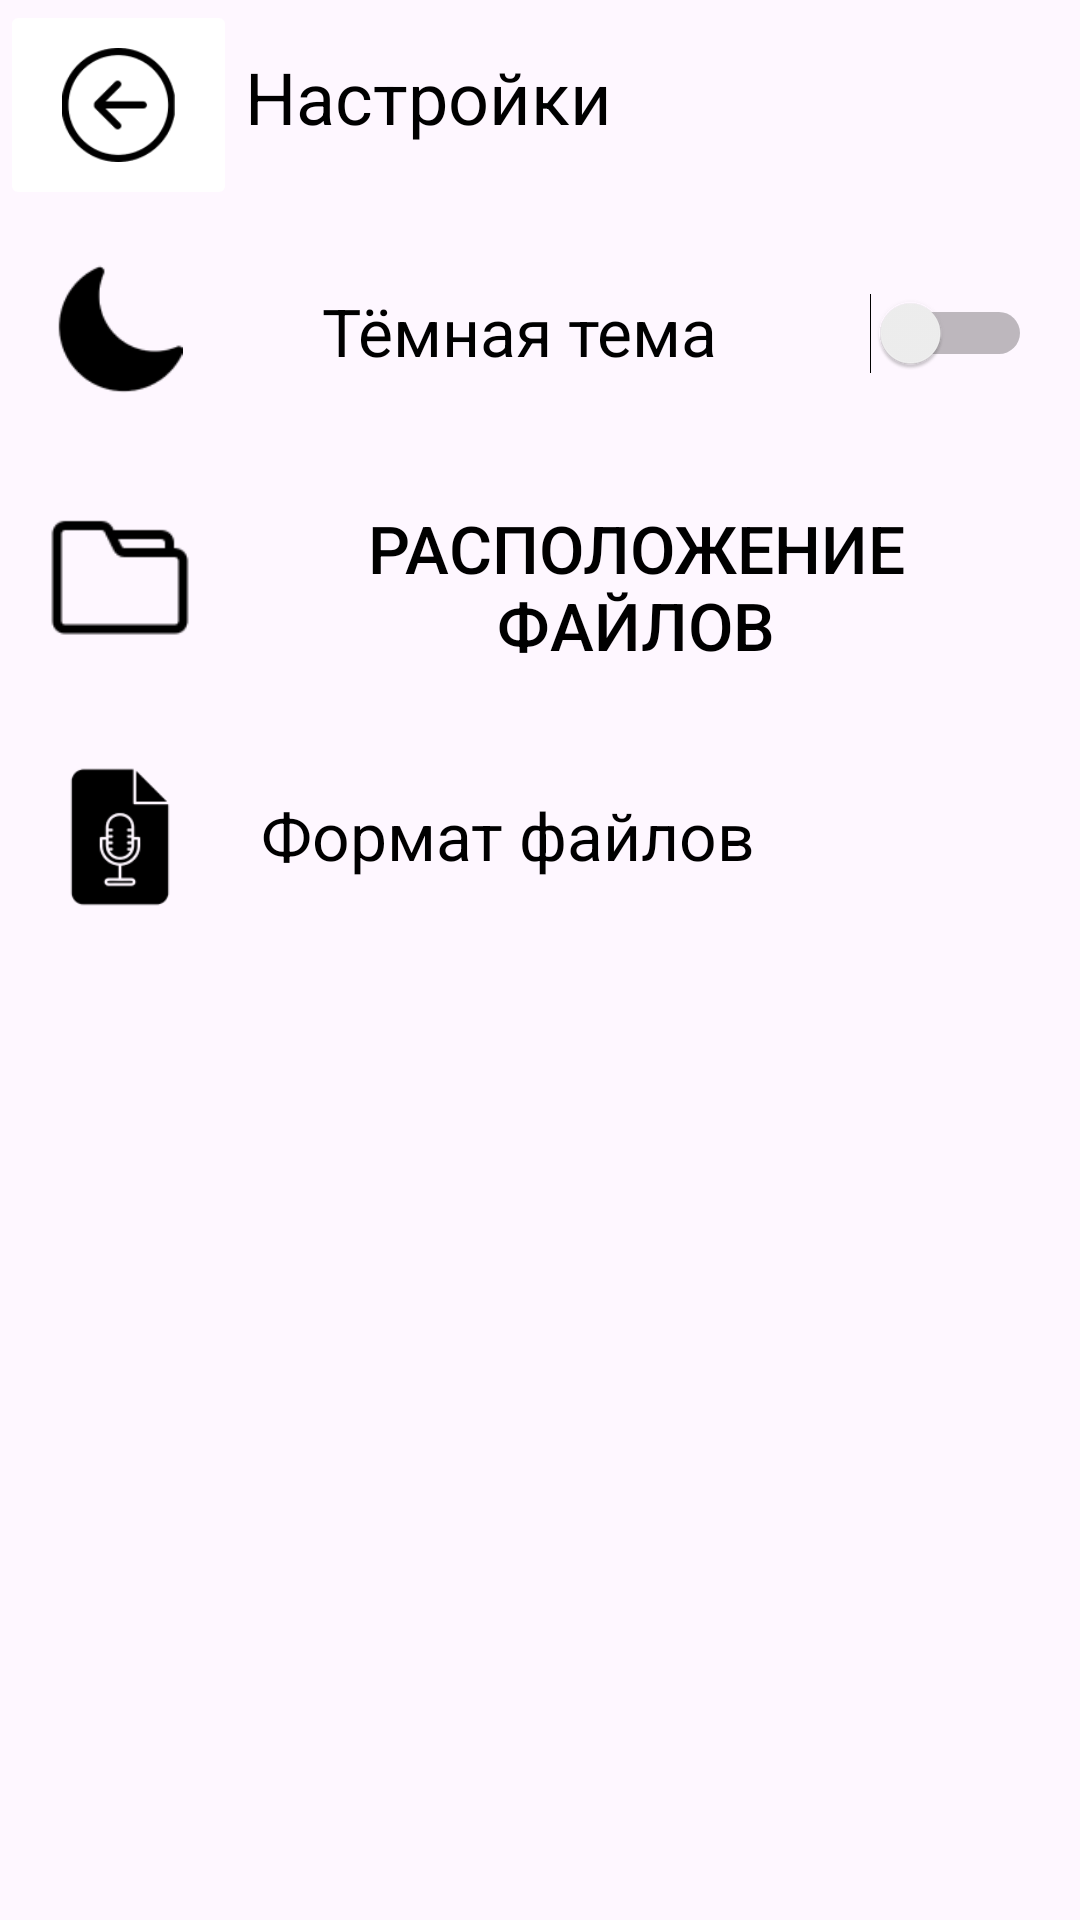

Locate icon controls on the screen. Image size 1080 x 1920, boxes as [x1, y1, x2, y2].
back: [62, 48, 175, 162]
directory: [51, 520, 189, 635]
format record: [71, 768, 169, 906]
theme: [58, 266, 183, 392]
